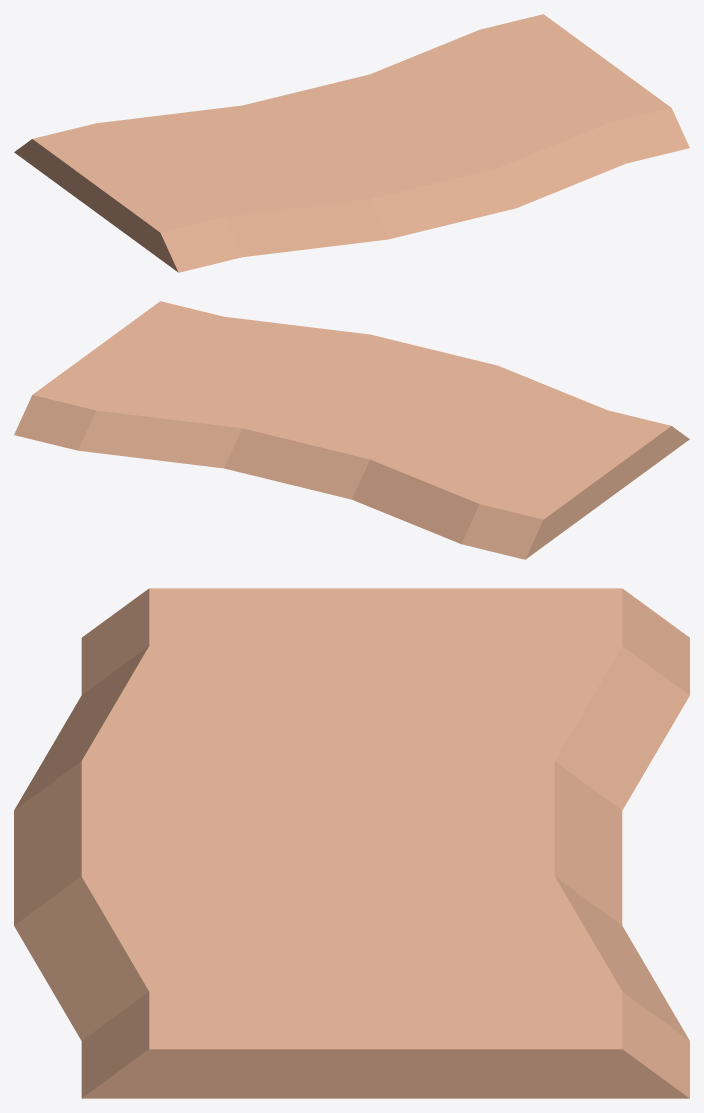
The model's file is k-crops-dirtrow.glb.
The picture shows the model from 3 angles, top to bottom: view 1: azimuth 30°, elevation 25°; view 2: azimuth 150°, elevation 25°; view 3: azimuth 270°, elevation 25°; orthographic projection. The views are drawn at different scales.
Visible parts, largest first — view 1: crops_dirtRow; view 2: crops_dirtRow; view 3: crops_dirtRow.
Boxes of the visible parts, x1,y1,x2,y2 form: crops_dirtRow: [14, 14, 689, 272]; crops_dirtRow: [14, 301, 689, 559]; crops_dirtRow: [14, 588, 689, 1098].
Bounding box in the file's own units: 1 × 0.0501 × 0.62.
